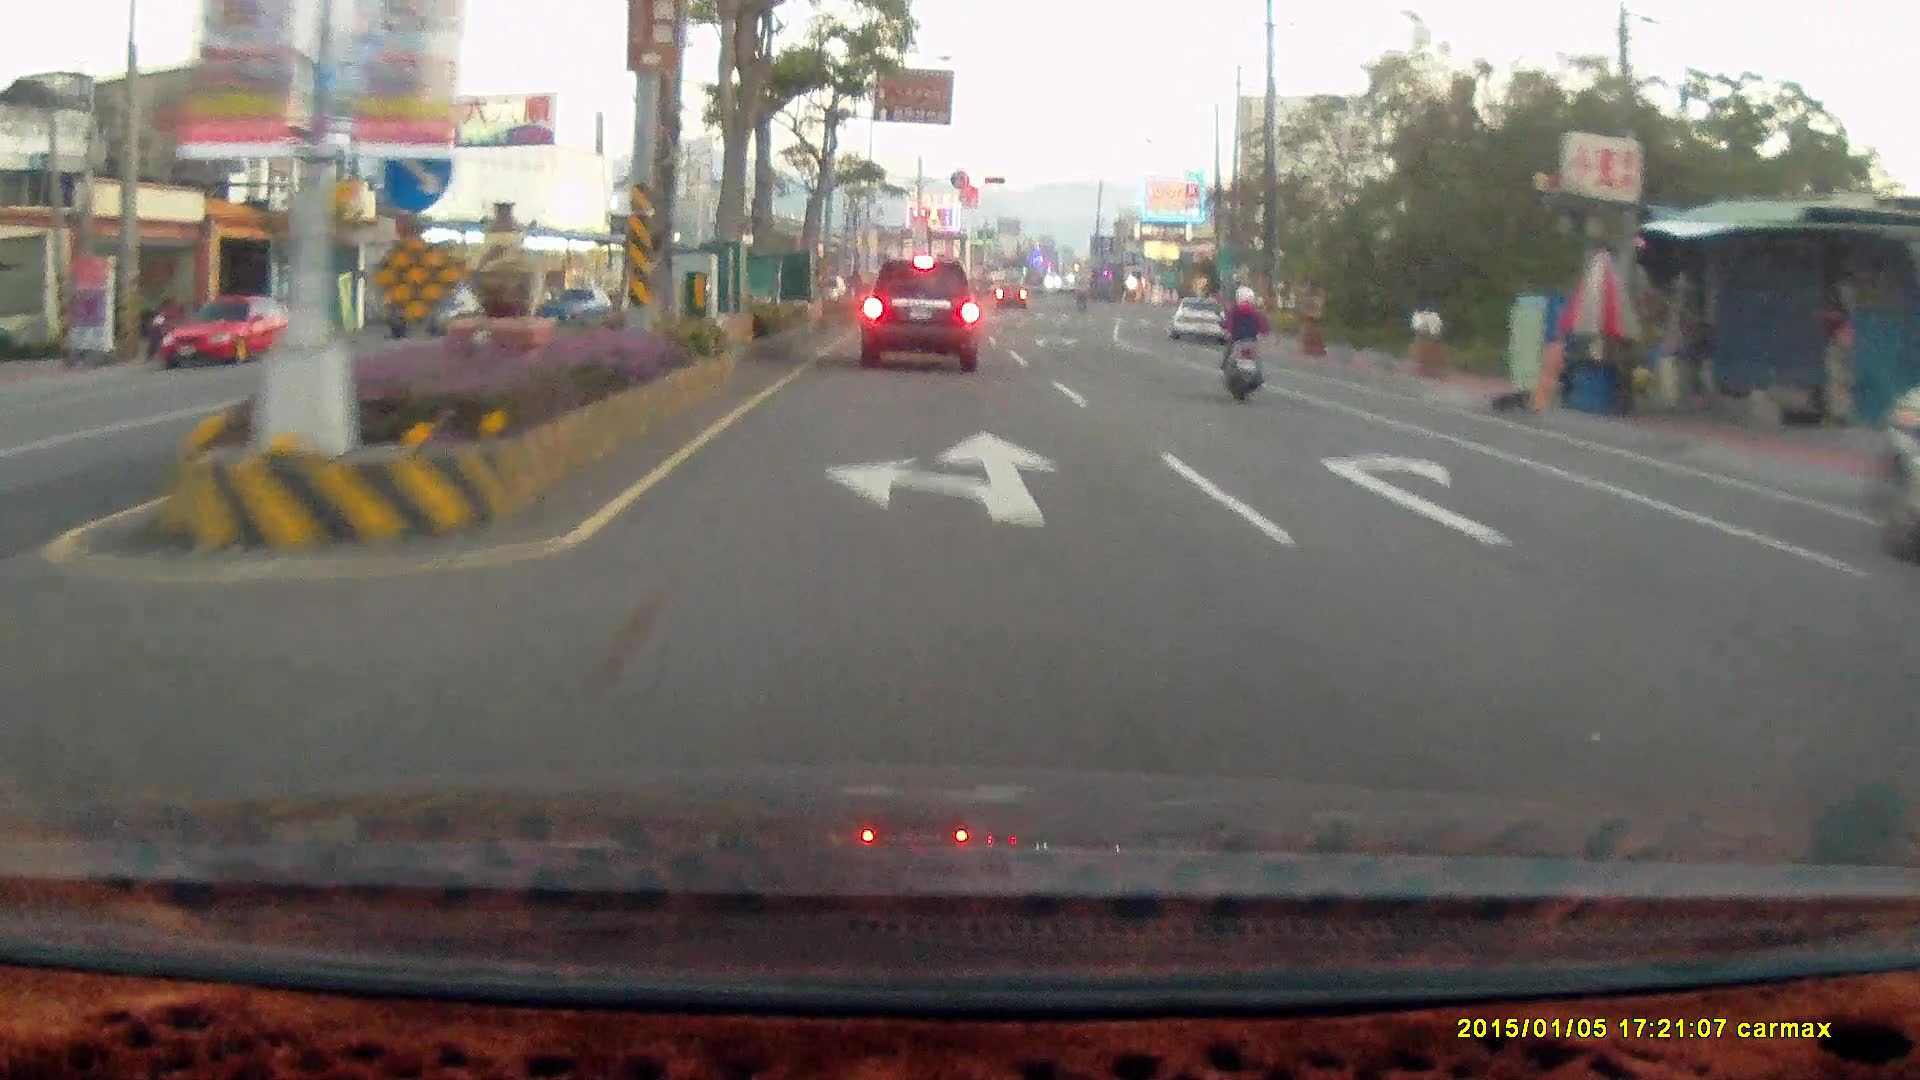rider: (1214, 282, 1270, 405)
vehicle: (861, 259, 976, 373), (155, 295, 301, 369), (1863, 378, 1920, 562), (1896, 493, 1920, 836), (1883, 528, 1920, 690), (396, 295, 499, 343), (1170, 298, 1230, 349), (1169, 298, 1228, 348)
